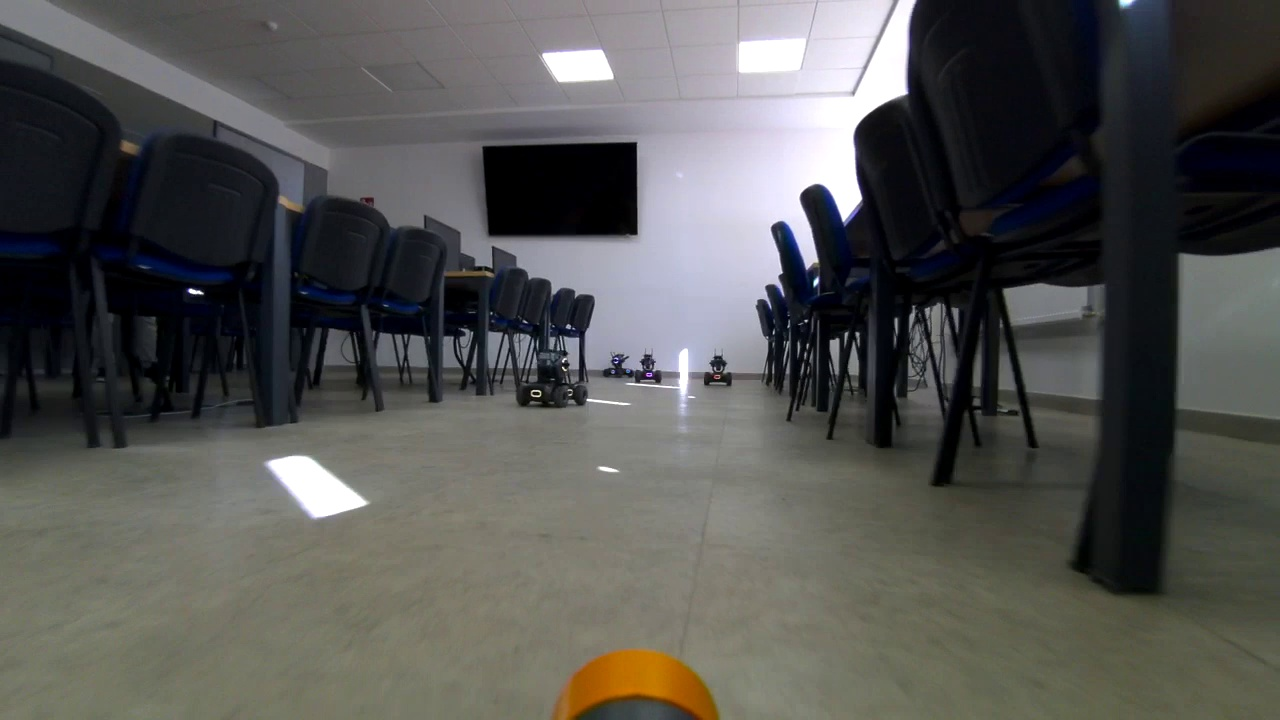robot: (517, 349, 593, 406), (634, 353, 678, 385), (703, 352, 739, 387), (599, 353, 634, 374)
